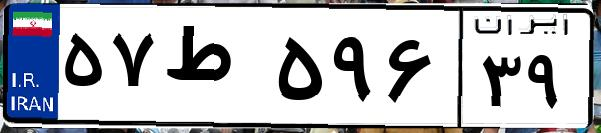3: (475, 38, 525, 113)
5: (270, 28, 330, 110), (57, 26, 110, 100)
6: (385, 28, 445, 110)
7: (110, 28, 158, 98)
9: (330, 28, 385, 110), (525, 38, 570, 115)
ط: (158, 20, 270, 120)
